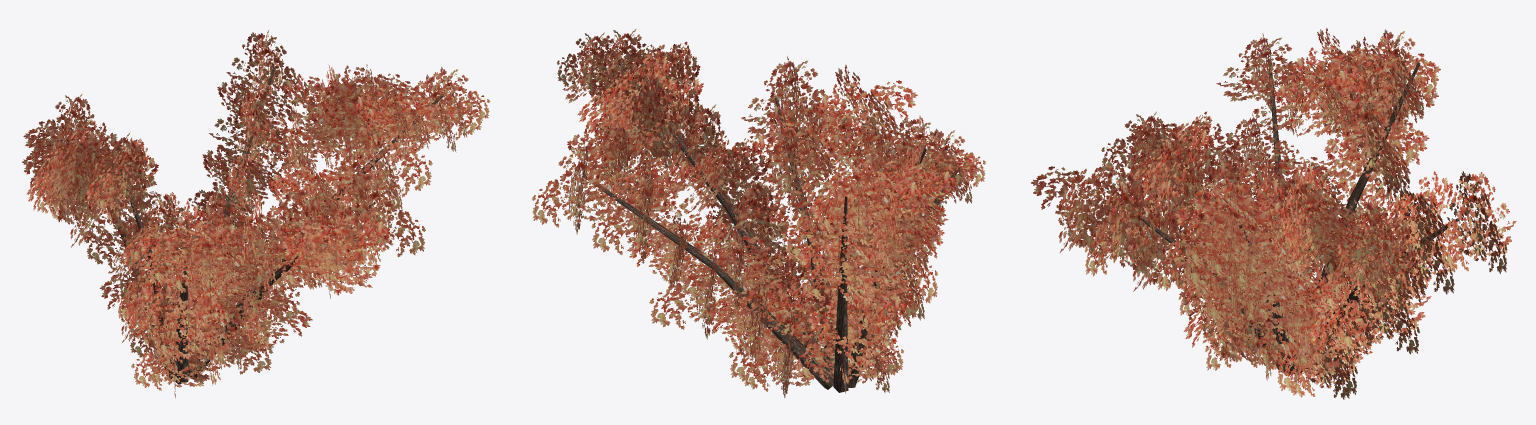
The model's file is bush_3d_05_copper_lod1.glb.
3 renders of one model, left to right at view 1: azimuth 30°, elevation 25°; view 2: azimuth 150°, elevation 25°; view 3: azimuth 270°, elevation 25°, orthographic. The views are drawn at different scales.
Visible parts, largest first — view 1: foliage_cards, wood_geometry; view 2: foliage_cards, wood_geometry; view 3: foliage_cards, wood_geometry.
Boxes of the visible parts, <box> form: foliage_cards: <box>22,29,490,398</box>; wood_geometry: <box>64,67,443,384</box>; foliage_cards: <box>532,29,985,397</box>; wood_geometry: <box>582,52,958,392</box>; foliage_cards: <box>1031,28,1516,399</box>; wood_geometry: <box>1140,58,1462,374</box>.
Bounding box in the file's own units: 2.79 × 1.71 × 2.5.
Materials: 2 (2 with a texture image).
